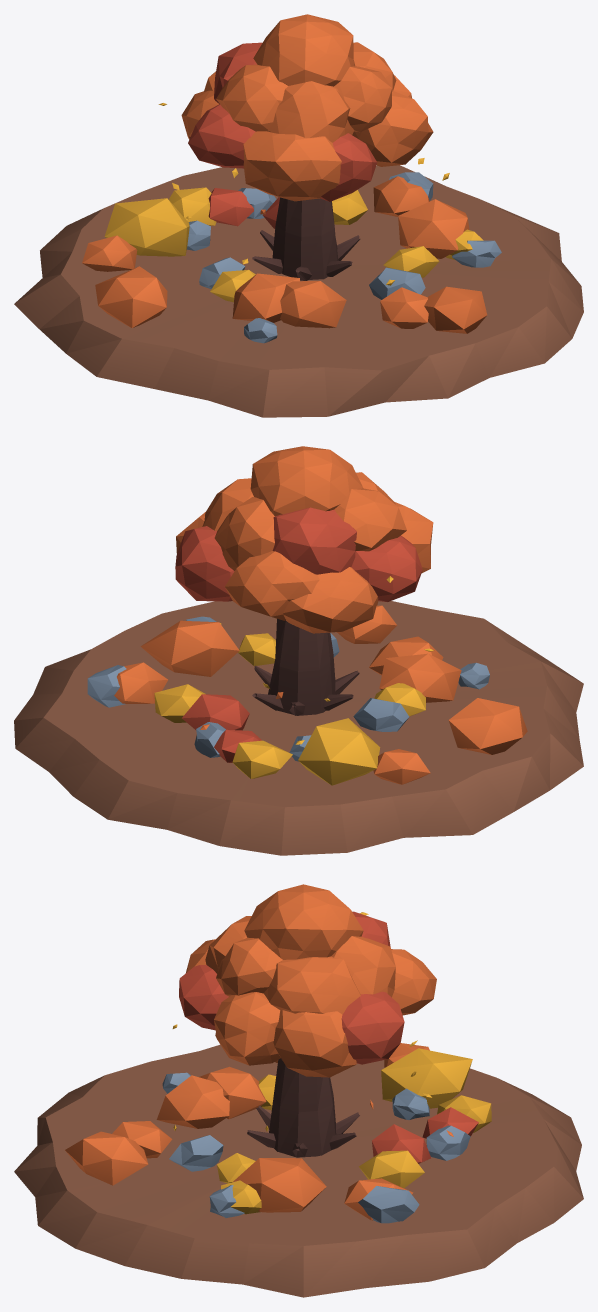
File: garden.glb
3 renders of one model, top to bottom at view 1: azimuth 30°, elevation 25°; view 2: azimuth 150°, elevation 25°; view 3: azimuth 270°, elevation 25°, orthographic. The views are drawn at different scales.
Visible parts, largest first — view 1: ground, leaves-3, leaves-14, stem, bush-10, leaves-10, leaves-1, leaves-11, bush-8, bush-0, leaves-4, leaves-9 (+21 smaller); view 2: ground, leaves-14, stem, leaves-12, leaves-5, leaves-6, bush-0, bush-10, bush-8, leaves-7, leaves-4, leaves-13 (+18 smaller); view 3: ground, leaves-14, stem, leaves-8, leaves-0, leaves-1, bush-10, leaves-7, bush-0, bush-3, bush-5, leaves-9 (+19 smaller).
Boxes of the visible parts, x1=… form: ground: x1=14, y1=165, x2=583, y2=417; leaves-3: x1=243, y1=131, x2=341, y2=201; leaves-14: x1=253, y1=14, x2=355, y2=86; stem: x1=272, y1=197, x2=338, y2=279; bush-10: x1=104, y1=198, x2=189, y2=256; leaves-10: x1=267, y1=81, x2=354, y2=142; leaves-1: x1=352, y1=90, x2=433, y2=166; leaves-11: x1=216, y1=64, x2=287, y2=131; bush-8: x1=95, y1=266, x2=167, y2=327; bush-0: x1=398, y1=199, x2=469, y2=258; leaves-4: x1=188, y1=104, x2=255, y2=168; leaves-9: x1=334, y1=66, x2=392, y2=132; ground: x1=14, y1=601, x2=583, y2=855; leaves-14: x1=250, y1=446, x2=362, y2=516; stem: x1=268, y1=618, x2=335, y2=715; leaves-12: x1=272, y1=507, x2=356, y2=574; leaves-5: x1=283, y1=567, x2=378, y2=633; leaves-6: x1=224, y1=551, x2=319, y2=620; bush-0: x1=140, y1=620, x2=239, y2=676; bush-10: x1=298, y1=718, x2=380, y2=785; bush-8: x1=448, y1=698, x2=527, y2=754; leaves-7: x1=175, y1=526, x2=234, y2=601; leaves-4: x1=351, y1=535, x2=422, y2=601; leaves-13: x1=214, y1=497, x2=274, y2=570; ground: x1=14, y1=1044, x2=583, y2=1297; leaves-14: x1=244, y1=884, x2=363, y2=959; stem: x1=269, y1=1058, x2=336, y2=1157; leaves-8: x1=263, y1=956, x2=360, y2=1014; leaves-0: x1=273, y1=1010, x2=356, y2=1077; leaves-1: x1=214, y1=992, x2=280, y2=1065; bush-10: x1=381, y1=1048, x2=472, y2=1108; leaves-7: x1=341, y1=991, x2=404, y2=1064; bush-0: x1=233, y1=1158, x2=326, y2=1212; bush-3: x1=65, y1=1131, x2=148, y2=1185; bush-5: x1=156, y1=1075, x2=229, y2=1128; leaves-9: x1=216, y1=937, x2=282, y2=996.
Bounding box in the file's own units: 25.45 × 13.45 × 24.86.
